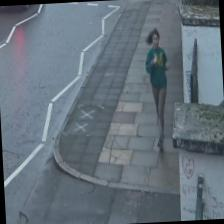person: (143, 27, 173, 148)
